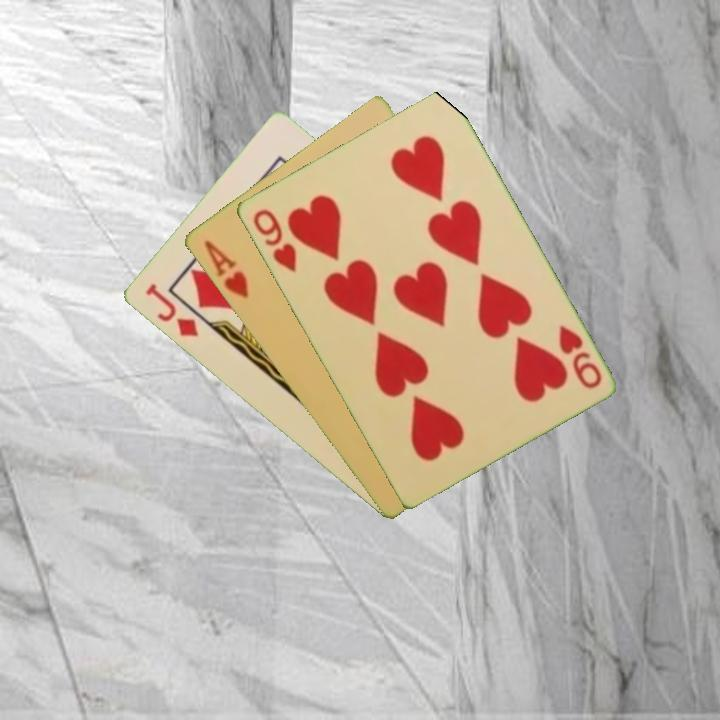9h: (554, 321, 605, 392), (249, 205, 299, 275)
Ah: (200, 236, 251, 301)
Jd: (141, 280, 201, 340)
